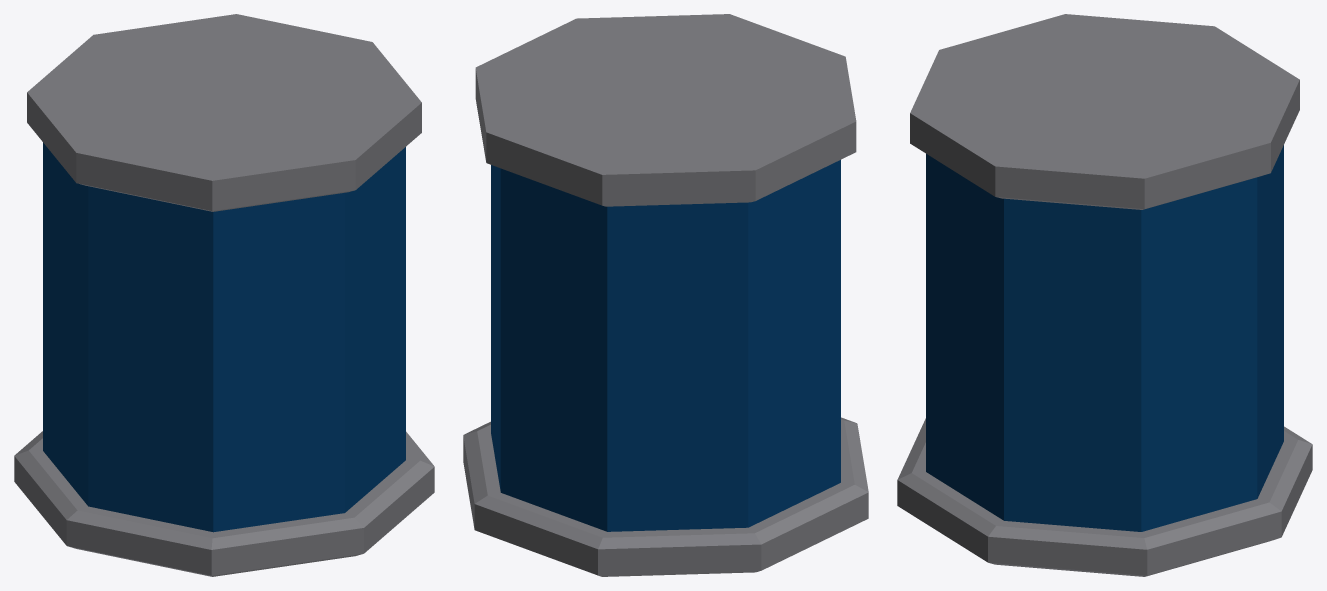
Rendered from SM_Prop_CenterTube_01.glb.
3 views of the same model, side by side, from view 1: azimuth 30°, elevation 25°; view 2: azimuth 150°, elevation 25°; view 3: azimuth 270°, elevation 25° (orthographic).
Parts seen in each view (by area): view 1: SM_Prop_CenterTube_Glass_01, SM_Prop_CenterTube_01; view 2: SM_Prop_CenterTube_Glass_01, SM_Prop_CenterTube_01; view 3: SM_Prop_CenterTube_Glass_01, SM_Prop_CenterTube_01.
Part boxes in pixels (left/top/right/bottom): SM_Prop_CenterTube_Glass_01: left=43, top=142, right=405, bottom=532; SM_Prop_CenterTube_01: left=14, top=14, right=434, bottom=576; SM_Prop_CenterTube_Glass_01: left=491, top=160, right=840, bottom=531; SM_Prop_CenterTube_01: left=463, top=14, right=868, bottom=576; SM_Prop_CenterTube_Glass_01: left=926, top=145, right=1283, bottom=531; SM_Prop_CenterTube_01: left=897, top=14, right=1312, bottom=576.
Bounding box in the file's own units: 3.78 × 4 × 3.78.
2 materials, 1 textured.
